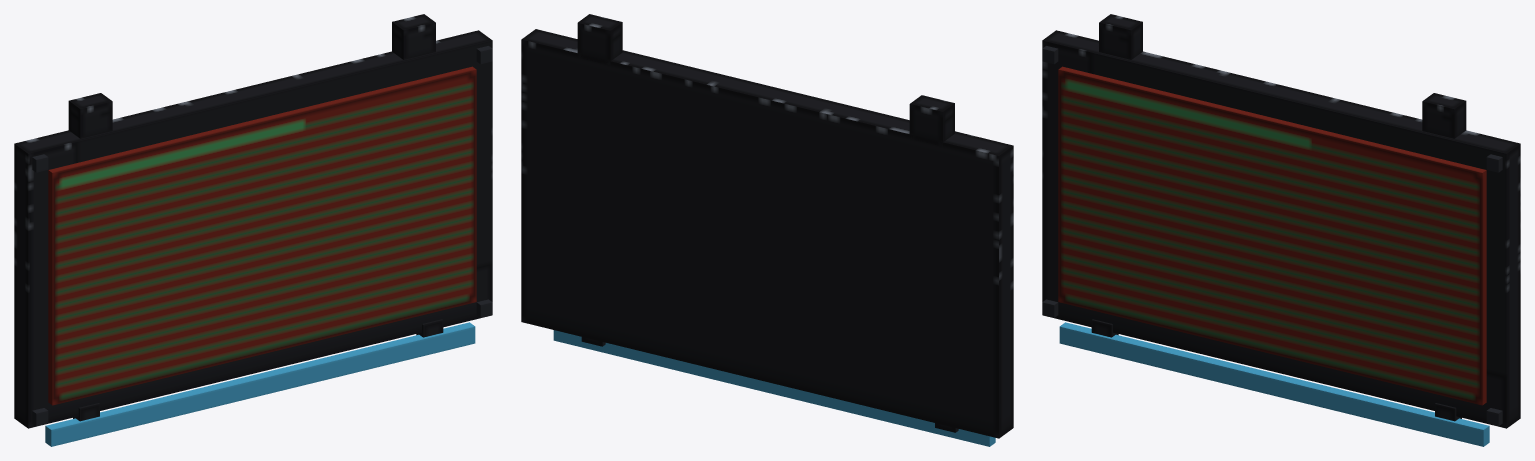
File: GateSign.obj
3 renders of one model, left to right at view 1: azimuth 30°, elevation 25°; view 2: azimuth 150°, elevation 25°; view 3: azimuth 330°, elevation 25°, orthographic. The views are drawn at different scales.
Parts seen in each view (by area): view 1: GateSign; view 2: GateSign; view 3: GateSign.
Part boxes in pixels (bbox=[...]): GateSign: bbox=[14, 14, 492, 446]; GateSign: bbox=[521, 14, 1013, 446]; GateSign: bbox=[1042, 14, 1520, 446].
Bounding box in the file's own units: 2.3 × 1.54 × 0.155.
1 material, 1 textured.
